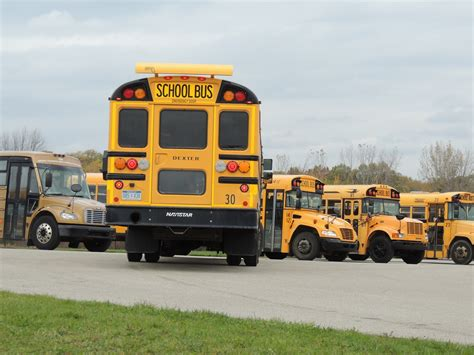bus: (110, 73, 262, 264), (1, 147, 106, 251), (264, 173, 357, 259), (326, 185, 426, 259), (402, 193, 474, 265)
